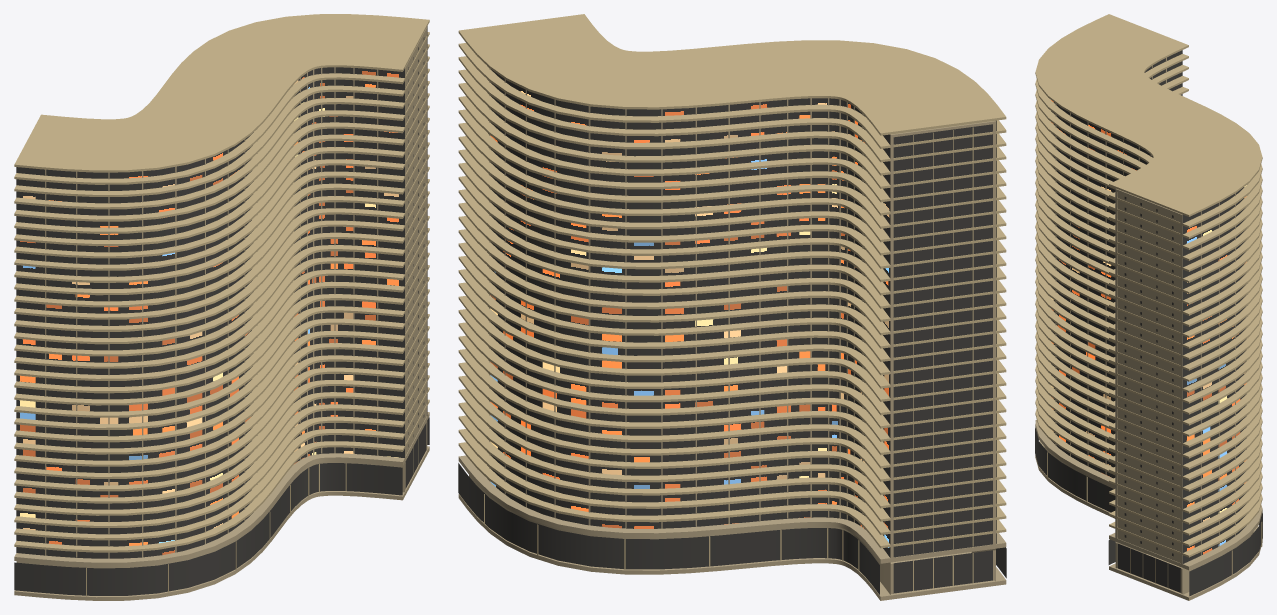
The model's file is copan.lod0.glb.
3 renders of one model, left to right at view 1: azimuth 30°, elevation 25°; view 2: azimuth 150°, elevation 25°; view 3: azimuth 270°, elevation 25°, orthographic. The views are drawn at different scales.
Visible parts, largest first — view 1: Copan_LOD0_Trim, Copan_LOD0_Glass, Copan_LOD0_Mass; view 2: Copan_LOD0_Trim, Copan_LOD0_Glass, Copan_LOD0_Mass; view 3: Copan_LOD0_Trim, Copan_LOD0_Mass, Copan_LOD0_Glass.
Boxes of the visible parts, x1,y1,x2,y2 form: Copan_LOD0_Trim: (14, 14, 429, 596); Copan_LOD0_Glass: (14, 26, 429, 595); Copan_LOD0_Mass: (14, 27, 429, 600); Copan_LOD0_Trim: (458, 14, 1006, 590); Copan_LOD0_Glass: (458, 66, 1006, 594); Copan_LOD0_Mass: (458, 68, 1006, 600); Copan_LOD0_Trim: (1035, 14, 1262, 587); Copan_LOD0_Mass: (1035, 57, 1262, 600); Copan_LOD0_Glass: (1035, 50, 1262, 596).
Size of the model in its own units: 40.28 by 36 by 19.26.
